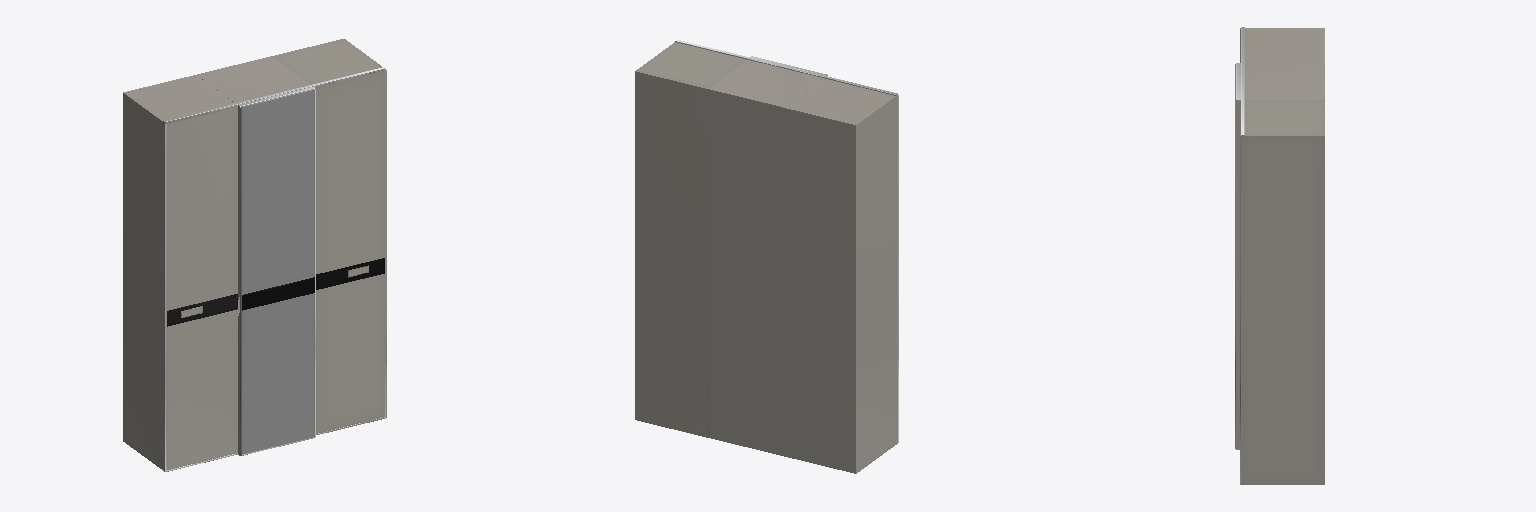
3 views of the same model, side by side, from view 1: azimuth 30°, elevation 25°; view 2: azimuth 150°, elevation 25°; view 3: azimuth 270°, elevation 25° (orthographic).
Parts seen in each view (by area): view 1: solid_007, solid_005, solid_006, solid_004, solid_003, solid_002; view 2: solid_006, solid_004; view 3: solid_006, solid_004.
Part boxes in pixels (bbox=[...]): solid_007: bbox=[166, 70, 384, 469]; solid_005: bbox=[242, 90, 314, 454]; solid_006: bbox=[123, 39, 381, 471]; solid_004: bbox=[163, 67, 386, 471]; solid_003: bbox=[167, 258, 384, 326]; solid_002: bbox=[242, 277, 314, 310]; solid_006: bbox=[635, 42, 897, 473]; solid_004: bbox=[675, 40, 898, 443]; solid_006: bbox=[1236, 28, 1324, 484]; solid_004: bbox=[1235, 27, 1244, 484].
Size of the model in its own units: 0.9935 by 1.5 by 0.3485.
Materials: 1 (1 with a texture image).